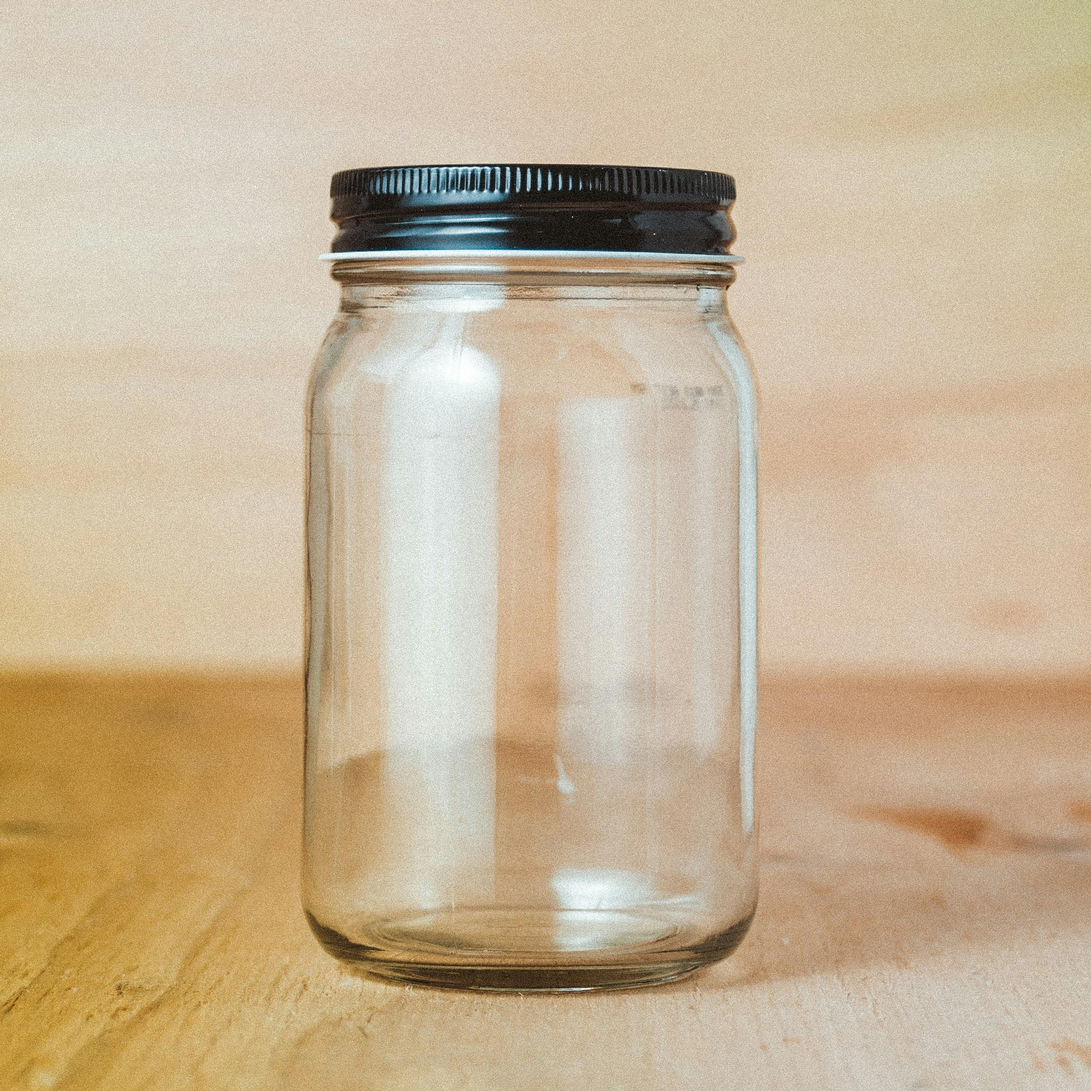Bottle-Detection: (271, 116, 820, 1021)
